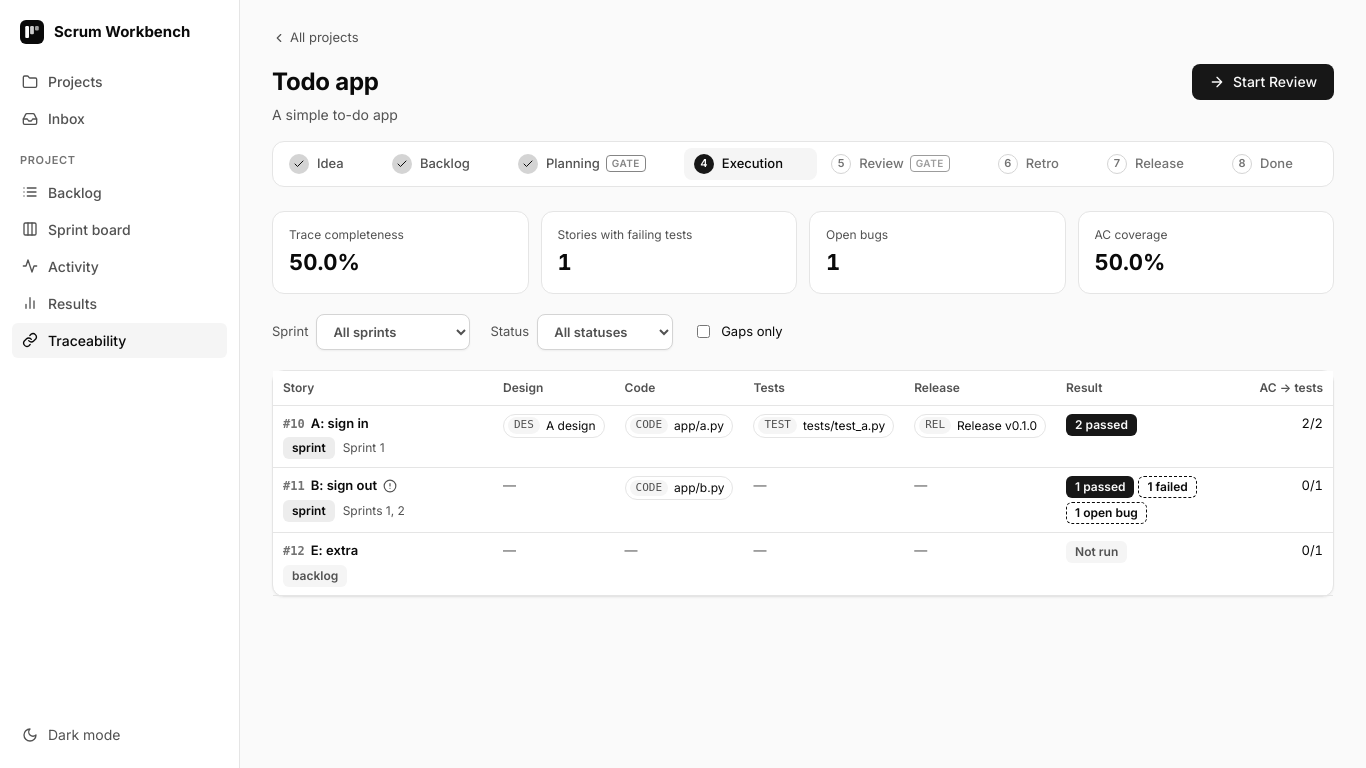
Test: TraceabilityPage › opens an artifact in the drawer
Expected: the text "A: sign in" is shown, [311,414,369,433]
Click the button "CODE app/a.py": (679, 426) [625,414,733,438]
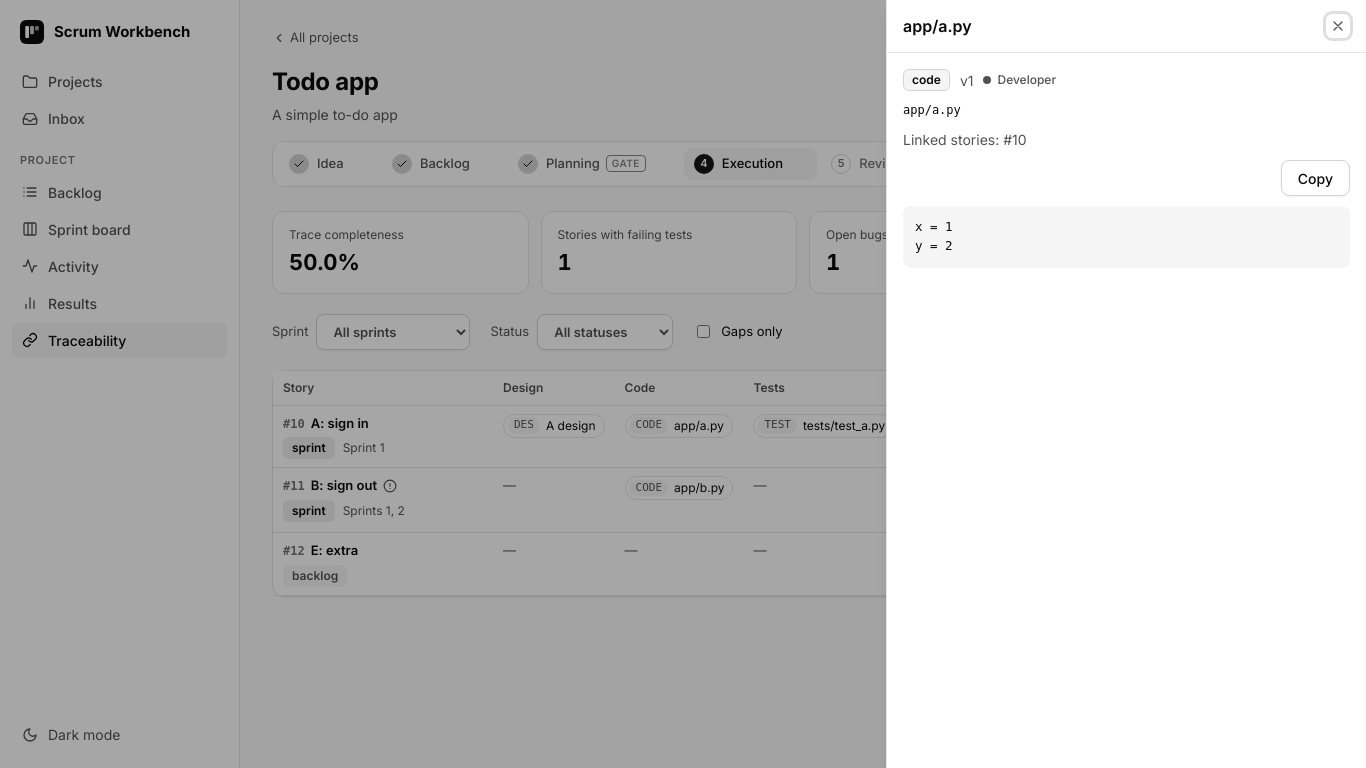
Now the text "x = 1 y = 2" is shown, box [915,219,953,253]
Now the text "Linked stories: #10" is shown, box [903,131,1027,148]
